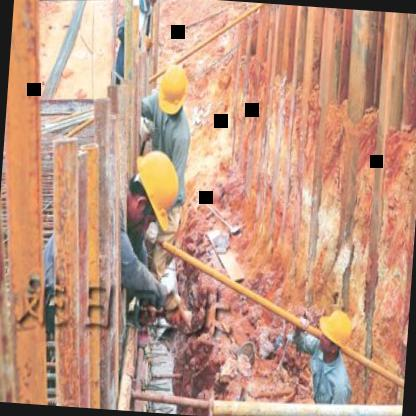head: (140, 0, 164, 8)
helmet: (122, 140, 190, 255), (318, 307, 353, 361), (157, 66, 192, 115)
